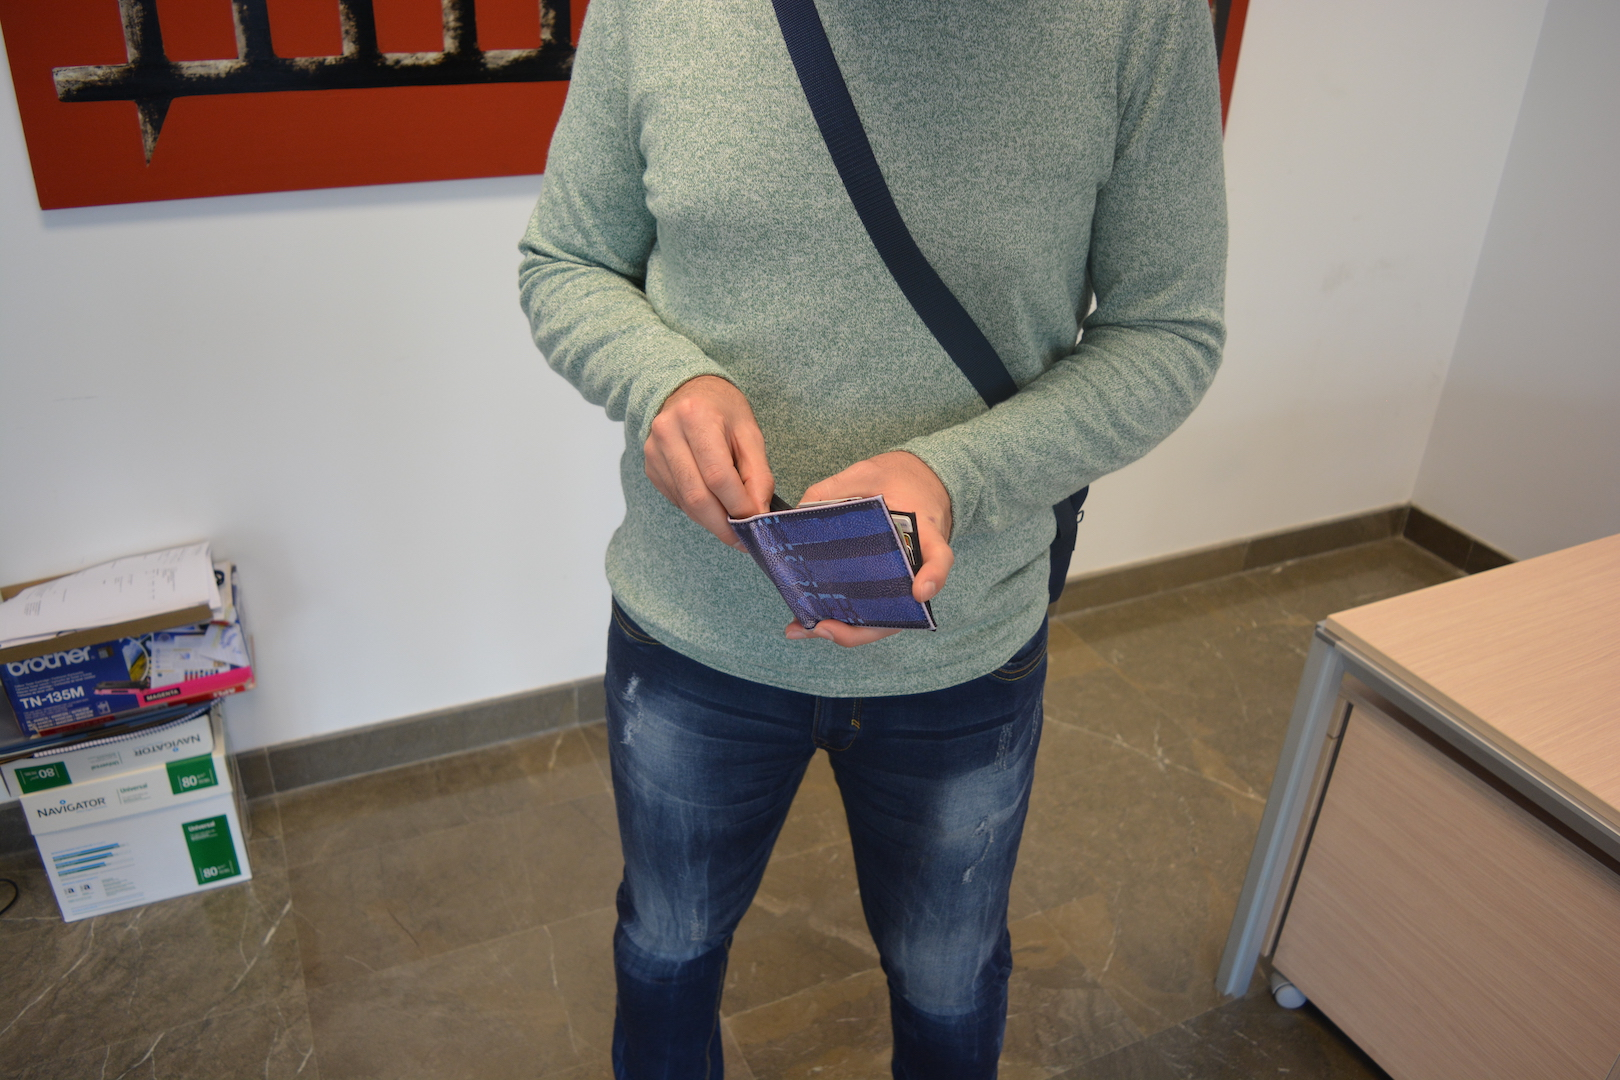monedero: (726, 489, 940, 634)
